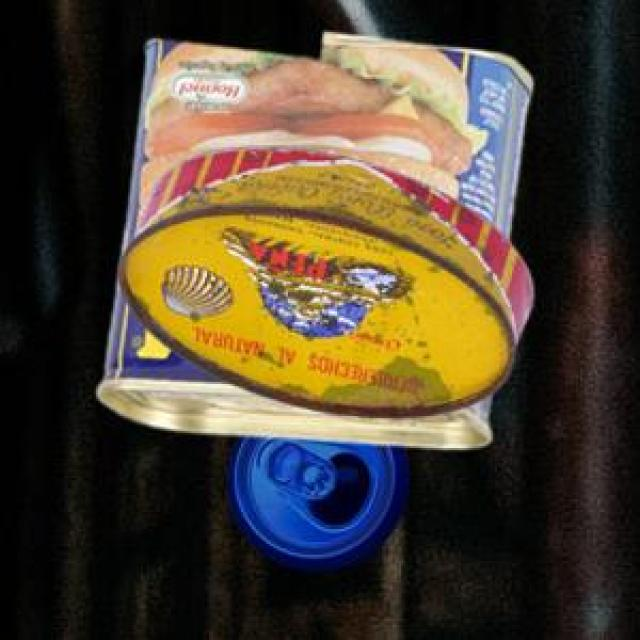logam: (95, 29, 528, 445), (116, 144, 530, 415), (225, 432, 404, 566)
